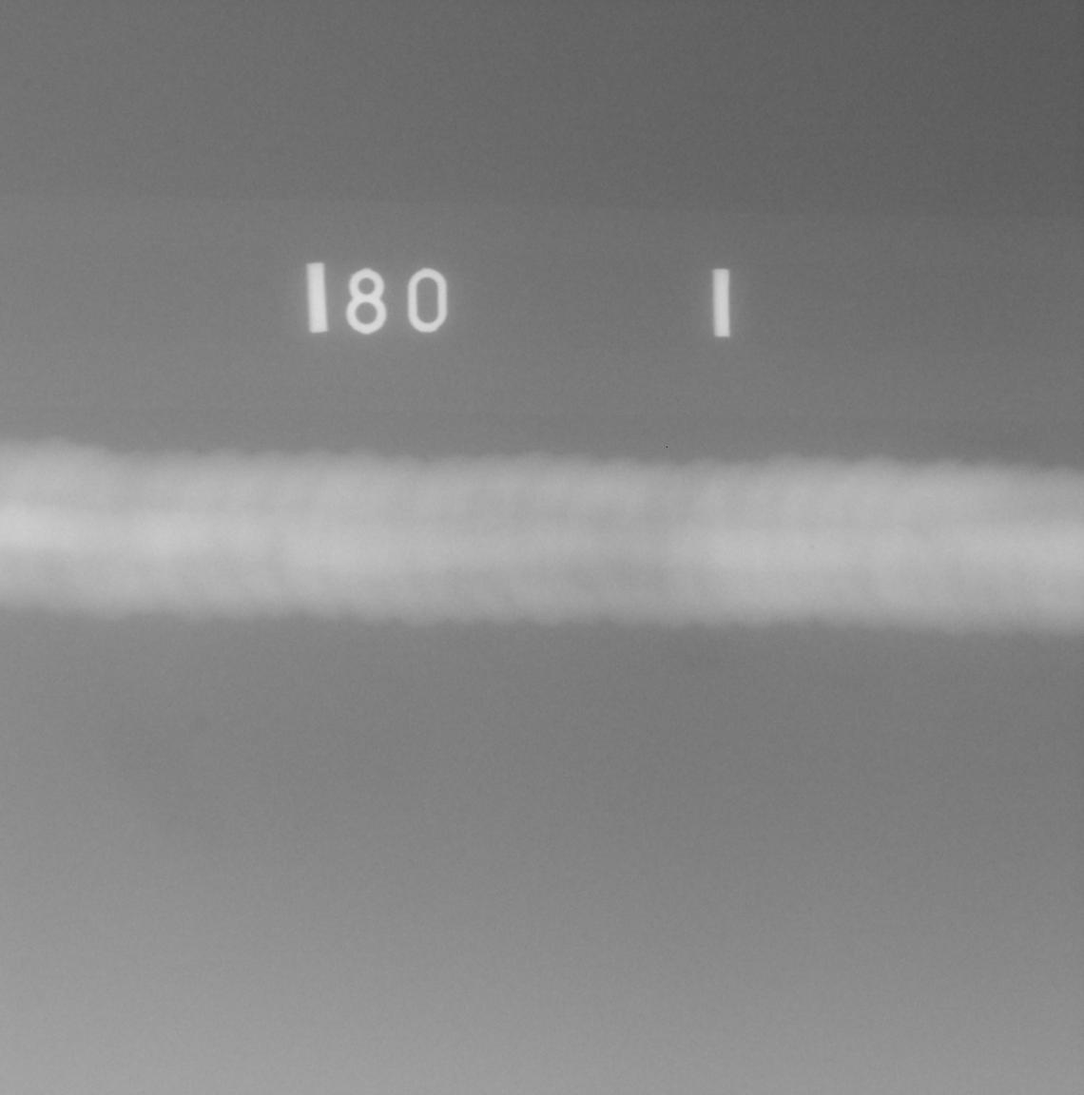Pore/Porosity: (809, 545, 814, 549)
